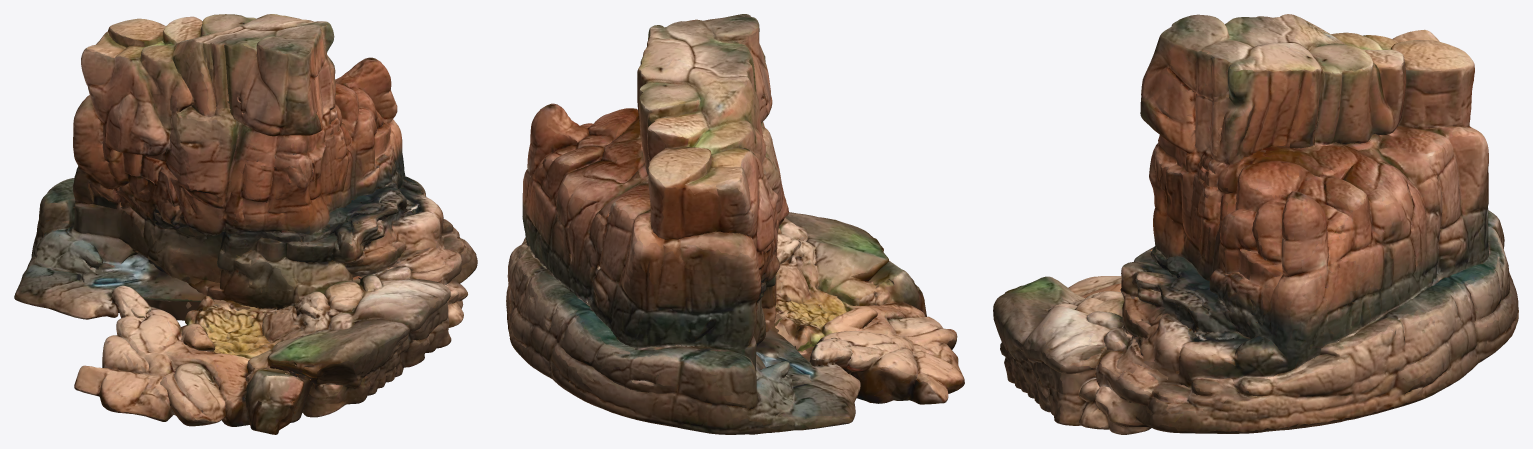
Rendered from stream-slate-v3.glb.
The picture shows the model from 3 angles, left to right: view 1: azimuth 30°, elevation 25°; view 2: azimuth 150°, elevation 25°; view 3: azimuth 270°, elevation 25°; orthographic projection. The views are drawn at different scales.
Parts seen in each view (by area): view 1: geometry_0; view 2: geometry_0; view 3: geometry_0.
Part boxes in pixels (box(x1,y1,x2,y2)): geometry_0: box(14, 14, 477, 434); geometry_0: box(506, 14, 964, 434); geometry_0: box(993, 14, 1518, 434).
Bounding box in the file's own units: 6.63 × 5.2 × 6.64.
1 material, 1 textured.
